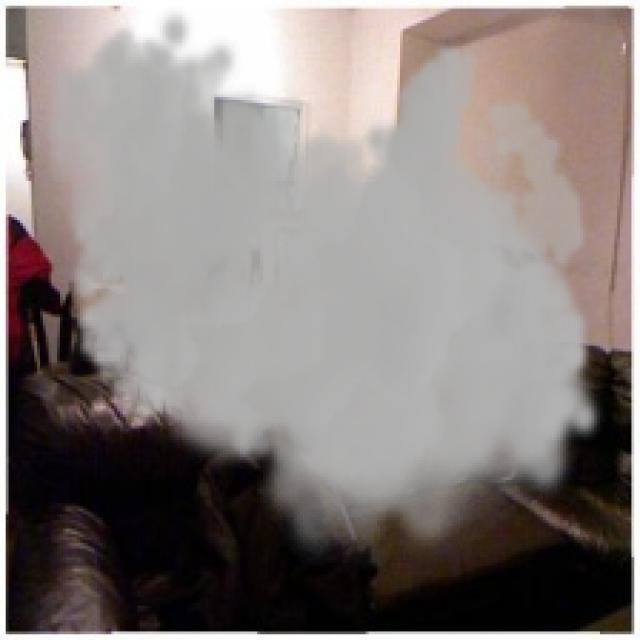Smoke: (43, 6, 606, 568)
